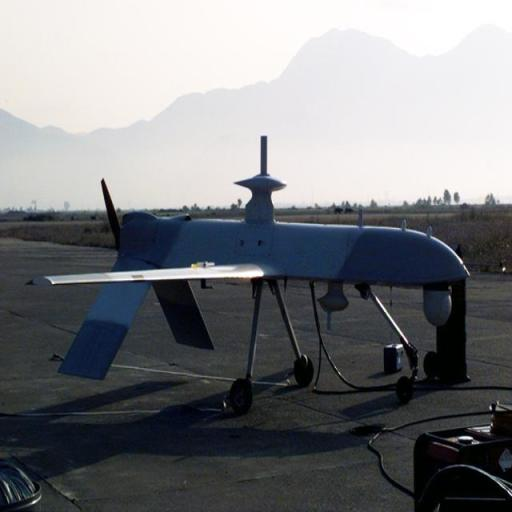uav: (23, 128, 487, 438)
